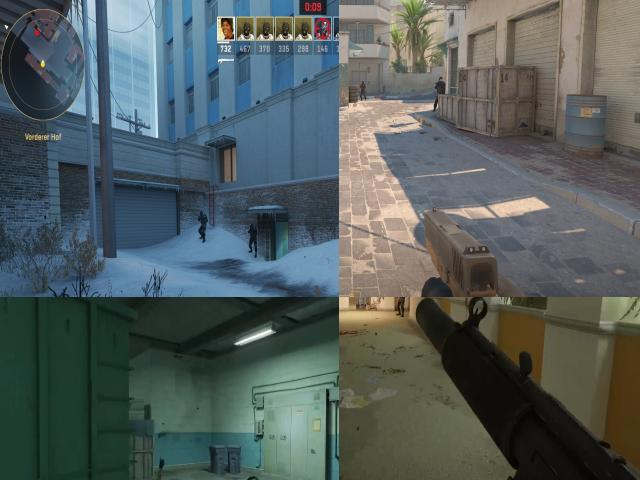CT: (198, 210, 208, 240), (249, 222, 258, 250), (437, 77, 445, 108), (360, 80, 366, 98)
CT-Head: (250, 222, 255, 230), (438, 77, 444, 83), (361, 81, 365, 85), (200, 211, 203, 216)
